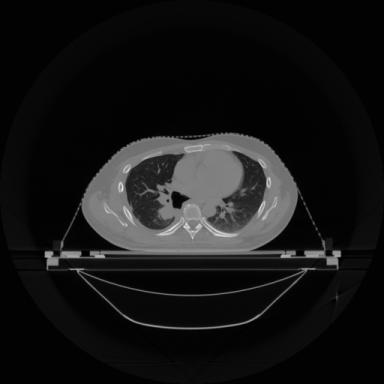body: (82, 134, 297, 252)
cord: (183, 203, 202, 240)
paru kanan: (126, 154, 183, 229)
paru kiri: (208, 152, 266, 232)
